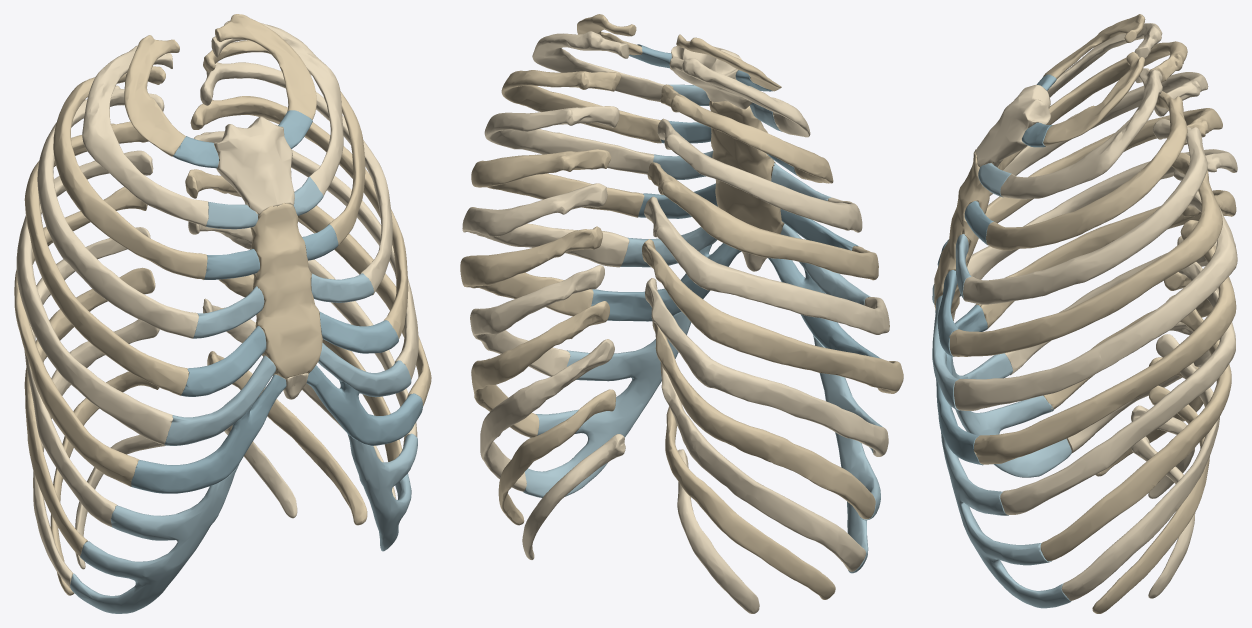
Rendered from thorax.glb.
3 renders of one model, left to right at view 1: azimuth 30°, elevation 25°; view 2: azimuth 150°, elevation 25°; view 3: azimuth 270°, elevation 25°, orthographic. The views are drawn at different scales.
Visible parts, largest first — view 1: body-of-sternum, right-lower-costal-cartilages, right-sixth-rib, right-fourth-rib, right-fifth-rib, right-third-rib, right-second-rib, manubrium-of-sternum, right-seventh-rib, right-seventh-costal-cartilage, left-fifth-rib, left-lower-costal-cartilages (+30 smaller); view 2: right-seventh-rib, right-sixth-rib, right-eighth-rib, right-ninth-rib, left-lower-costal-cartilages, right-fifth-rib, right-tenth-rib, left-sixth-rib, left-fifth-rib, left-fourth-rib, left-seventh-rib, right-eleventh-rib (+25 smaller); view 3: left-sixth-rib, left-fifth-rib, left-seventh-rib, left-fourth-rib, left-eighth-rib, left-third-rib, left-ninth-rib, left-lower-costal-cartilages, left-tenth-rib, right-lower-costal-cartilages, left-second-rib, right-seventh-rib (+24 smaller).
Boxes of the visible parts, x1,y1,x2,y2 form: body-of-sternum: (250,202,322,379); right-lower-costal-cartilages: (70,464,239,613); right-sixth-rib: (16,150,173,444); right-fourth-rib: (37,85,198,338); right-fifth-rib: (24,121,188,395); right-third-rib: (53,66,207,279); right-second-rib: (82,45,208,226); manubrium-of-sternum: (214,116,294,214); right-seventh-rib: (14,186,147,486); right-seventh-costal-cartilage: (131,374,286,493); left-fifth-rib: (190,96,408,338); left-lower-costal-cartilages: (347,433,417,551); right-seventh-rib: (642,239,903,393); right-sixth-rib: (644,196,889,334); right-eighth-rib: (645,278,888,456); right-ninth-rib: (652,320,875,519); left-lower-costal-cartilages: (523,311,691,497); right-fifth-rib: (647,162,878,280); right-tenth-rib: (660,362,865,571); left-sixth-rib: (462,183,629,267); left-fifth-rib: (471,149,644,217); left-fourth-rib: (484,106,654,174); left-seventh-rib: (460,226,602,316); right-eleventh-rib: (665,406,835,599); left-sixth-rib: (954,191,1237,410); left-fifth-rib: (949,152,1222,356); left-seventh-rib: (973,220,1236,464); left-fourth-rib: (963,119,1207,304); left-eighth-rib: (1000,262,1235,514); left-third-rib: (986,91,1187,250); left-ninth-rib: (1040,295,1231,561); left-lower-costal-cartilages: (941,432,1071,608); left-tenth-rib: (1061,334,1219,600); right-lower-costal-cartilages: (952,353,1071,477); left-second-rib: (1000,68,1162,199); right-seventh-rib: (975,190,1236,329).
Bounding box in the file's own units: 0.6827 × 0.9442 × 0.5102.
